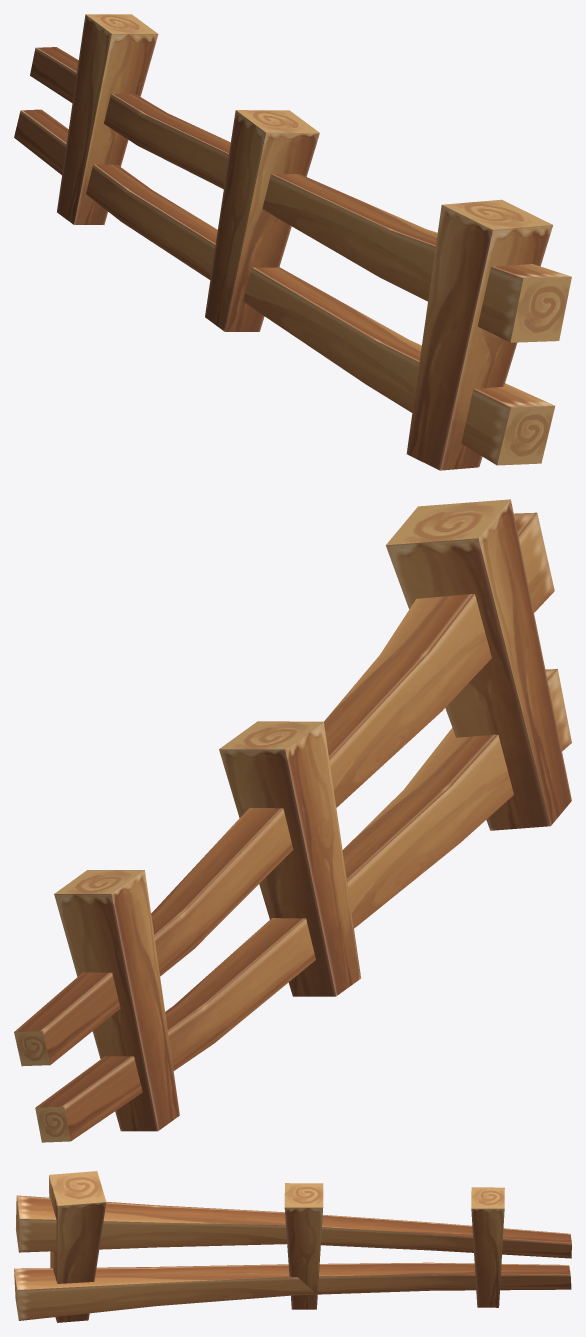
The picture shows the model from 3 angles, top to bottom: view 1: azimuth 30°, elevation 25°; view 2: azimuth 150°, elevation 25°; view 3: azimuth 270°, elevation 25°; orthographic projection. The views are drawn at different scales.
Parts seen in each view (by area): view 1: Box004; view 2: Box004; view 3: Box004.
Boxes of the visible parts, bbox=[...] form: Box004: bbox=[14, 14, 571, 470]; Box004: bbox=[14, 499, 571, 1142]; Box004: bbox=[14, 1171, 571, 1322].
Bounding box in the file's own units: 124 × 666 × 198.
